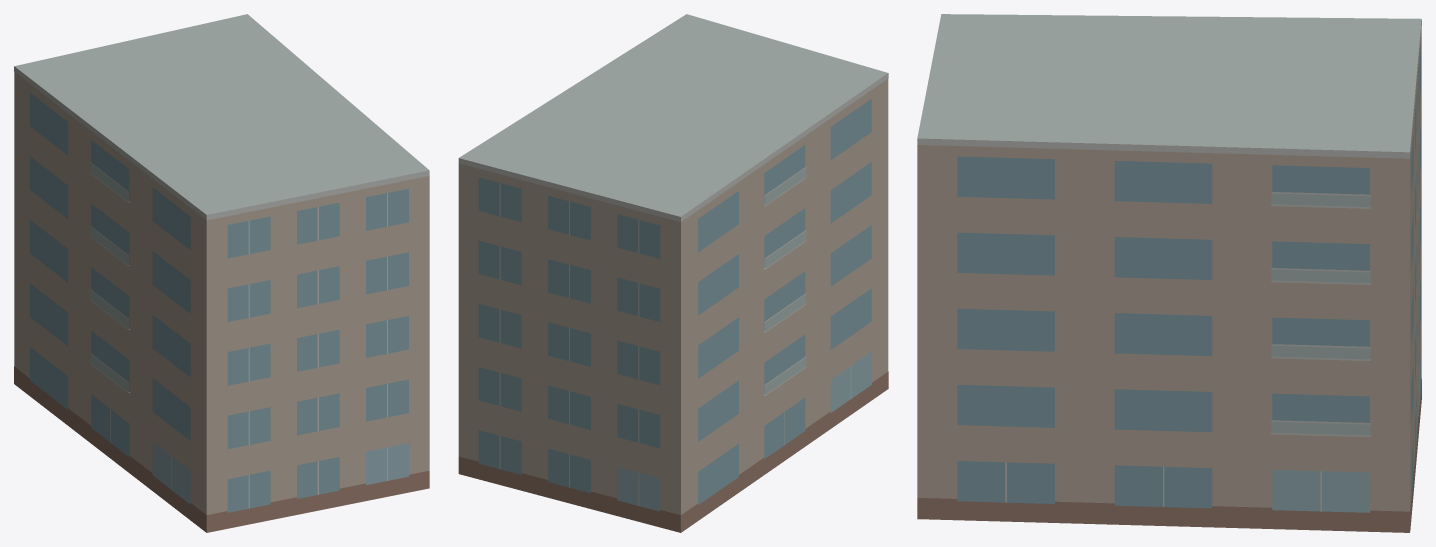
Rendered from survey-upis-33010024.glb.
3 renders of one model, left to right at view 1: azimuth 30°, elevation 25°; view 2: azimuth 150°, elevation 25°; view 3: azimuth 270°, elevation 25°, orthographic. The views are drawn at different scales.
Visible parts, largest first — view 1: survey-upis-33010024.tmp; view 2: survey-upis-33010024.tmp; view 3: survey-upis-33010024.tmp.
Boxes of the visible parts, x1=… form: survey-upis-33010024.tmp: x1=14, y1=14, x2=429, y2=532; survey-upis-33010024.tmp: x1=458, y1=14, x2=888, y2=532; survey-upis-33010024.tmp: x1=917, y1=14, x2=1421, y2=532.
Size of the model in its own units: 11.31 by 14.5 by 17.43.
